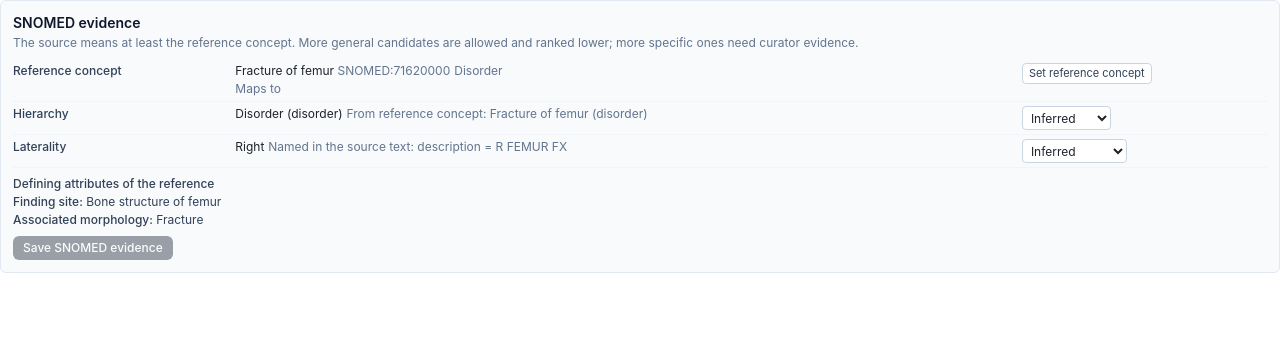
Test: SnomedEvidencePanel › sets a reference, a hierarchy and no side, reports them unsaved, and PUTs them
Expected: the button "Save SNOMED evidence" is disabled, left=13, top=236, right=173, bottom=260
Click the button "Set reference concept": (1087, 73) left=1022, top=63, right=1152, bottom=84
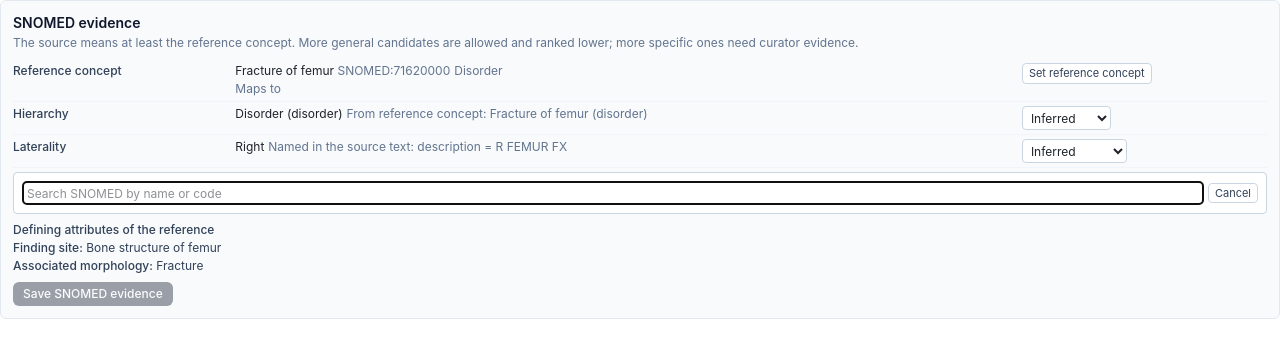
In the field named "Search reference concept": (613, 193) left=22, top=181, right=1204, bottom=205, type "pneumonia"
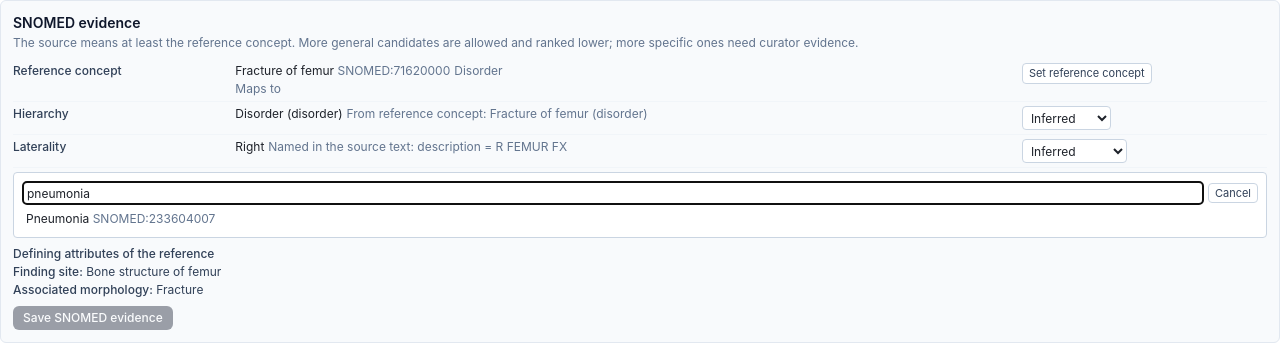
Click the option "Pneumonia SNOMED:233604007": (58, 218) left=22, top=209, right=1258, bottom=229
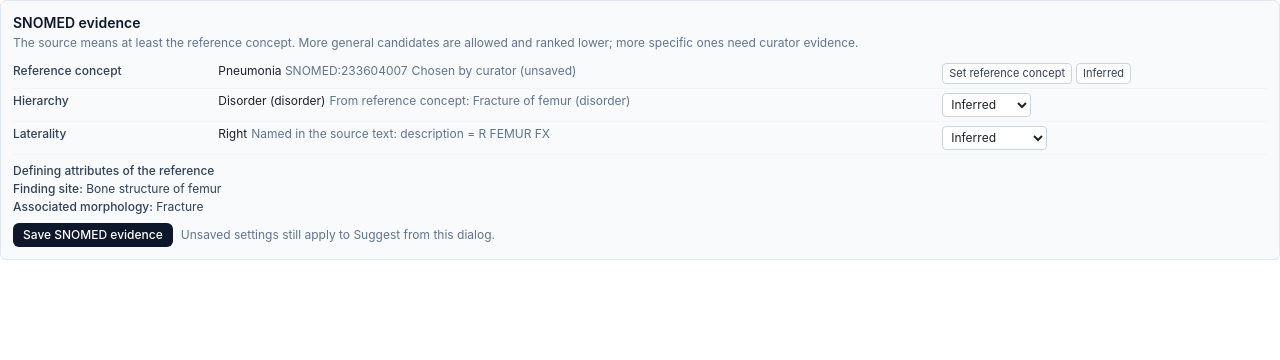
Expected: the cell with test id "snomed-reference" shows "Pneumonia SNOMED:233604007", left=210, top=59, right=934, bottom=88
Expected: the cell with test id "snomed-reference" shows "Chosen by curator (unsaved)", left=412, top=63, right=576, bottom=78
Select "finding" in the dropdown named "Hierarchy": (987, 105) left=942, top=93, right=1031, bottom=117
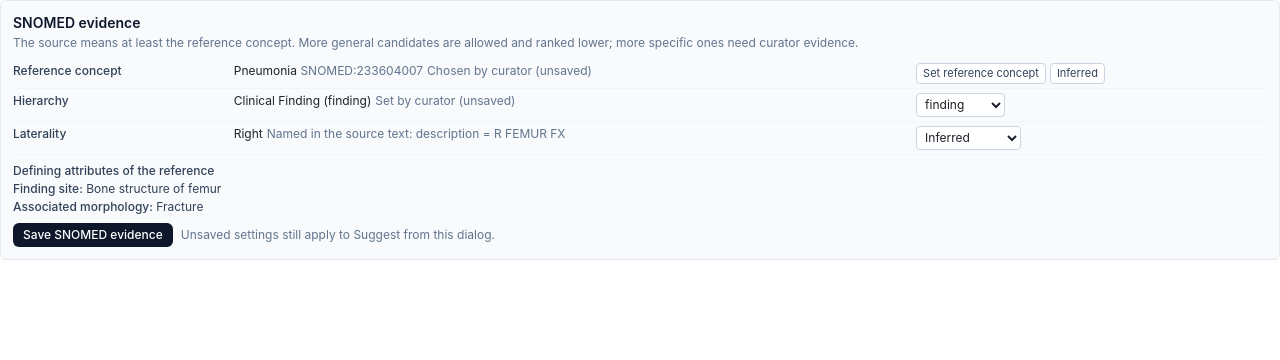
Select "None" in the dropdown named "Laterality": (969, 138) left=916, top=126, right=1021, bottom=150
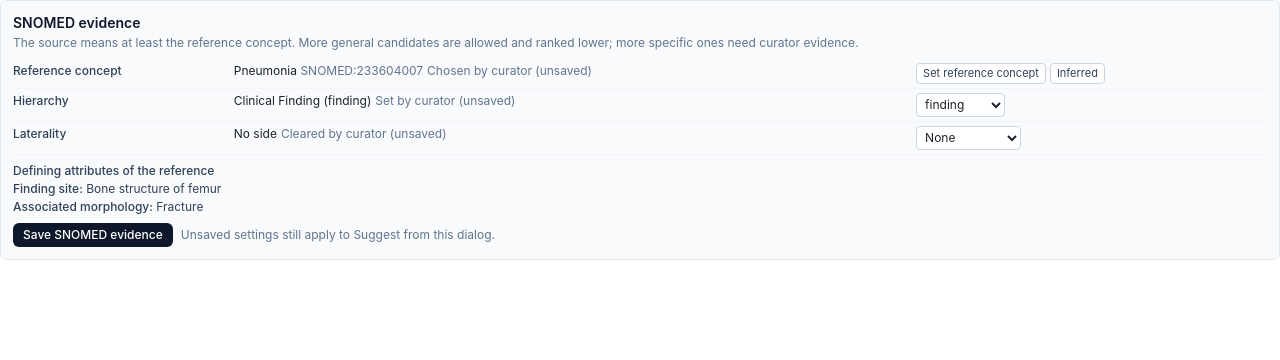
Expected: the text with test id "snomed-laterality" reads "No side", left=234, top=126, right=277, bottom=141
Expected: the text with test id "snomed-laterality-why" reads "Cleared by curator (unsaved)", left=281, top=126, right=446, bottom=141
Click the button "Save SNOMED evidence": (93, 235) left=13, top=223, right=173, bottom=247
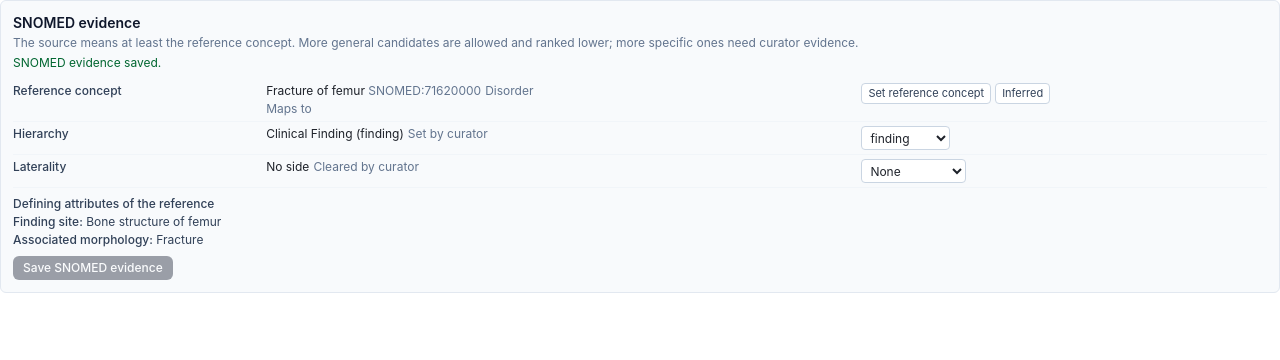
Expected: the message reads "SNOMED evidence saved.", left=13, top=55, right=161, bottom=70
